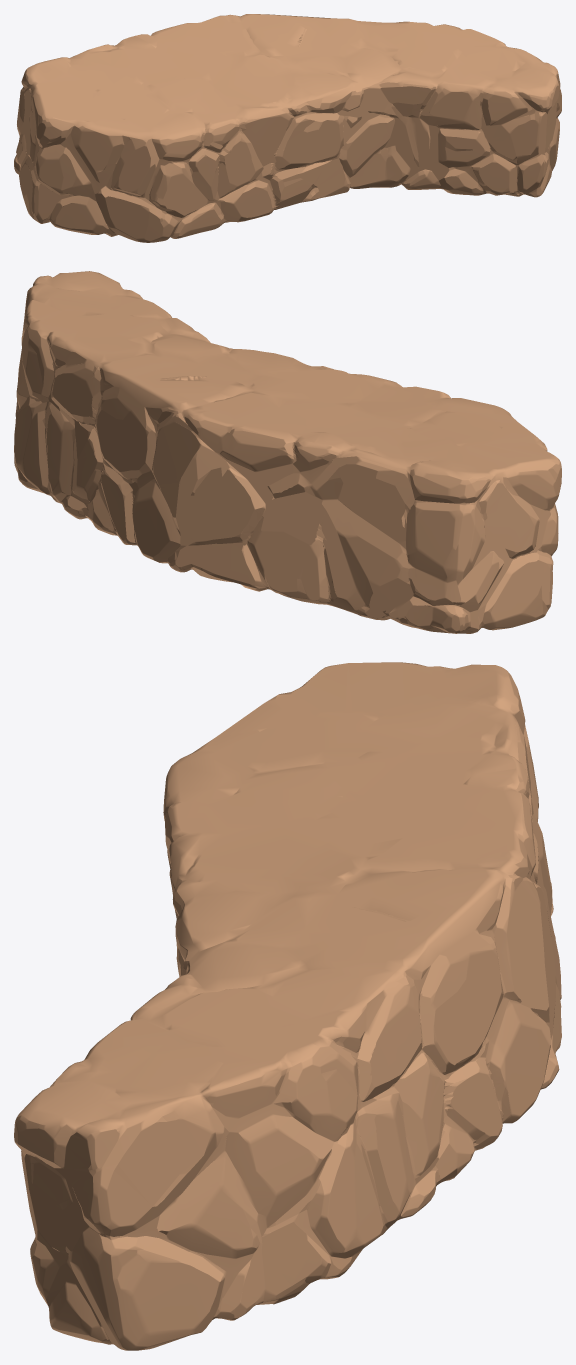
3 views of the same model, one above another, from view 1: azimuth 30°, elevation 25°; view 2: azimuth 150°, elevation 25°; view 3: azimuth 270°, elevation 25° (orthographic). The views are drawn at different scales.
Parts seen in each view (by area): view 1: Mesh_27_LOD0; view 2: Mesh_27_LOD0; view 3: Mesh_27_LOD0.
Part boxes in pixels (<box>): Mesh_27_LOD0: <box>14,14,561,242</box>; Mesh_27_LOD0: <box>14,271,561,633</box>; Mesh_27_LOD0: <box>14,662,561,1350</box>.
Size of what is drawn, in the model's own units: 8539 by 2586 by 4450.
